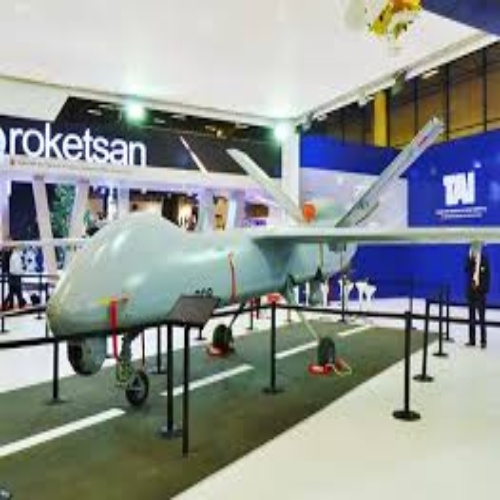uav489: (44, 122, 490, 407)
